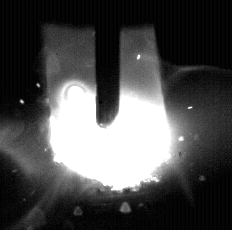arame: (96, 0, 121, 128)
poca: (49, 0, 172, 230)
